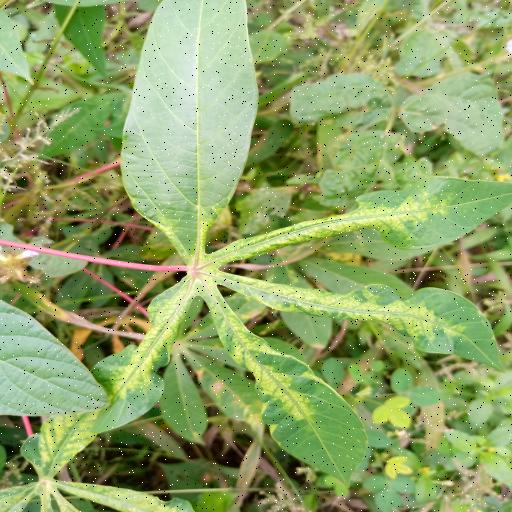Cassava_Mosaic: (28, 0, 512, 484)
